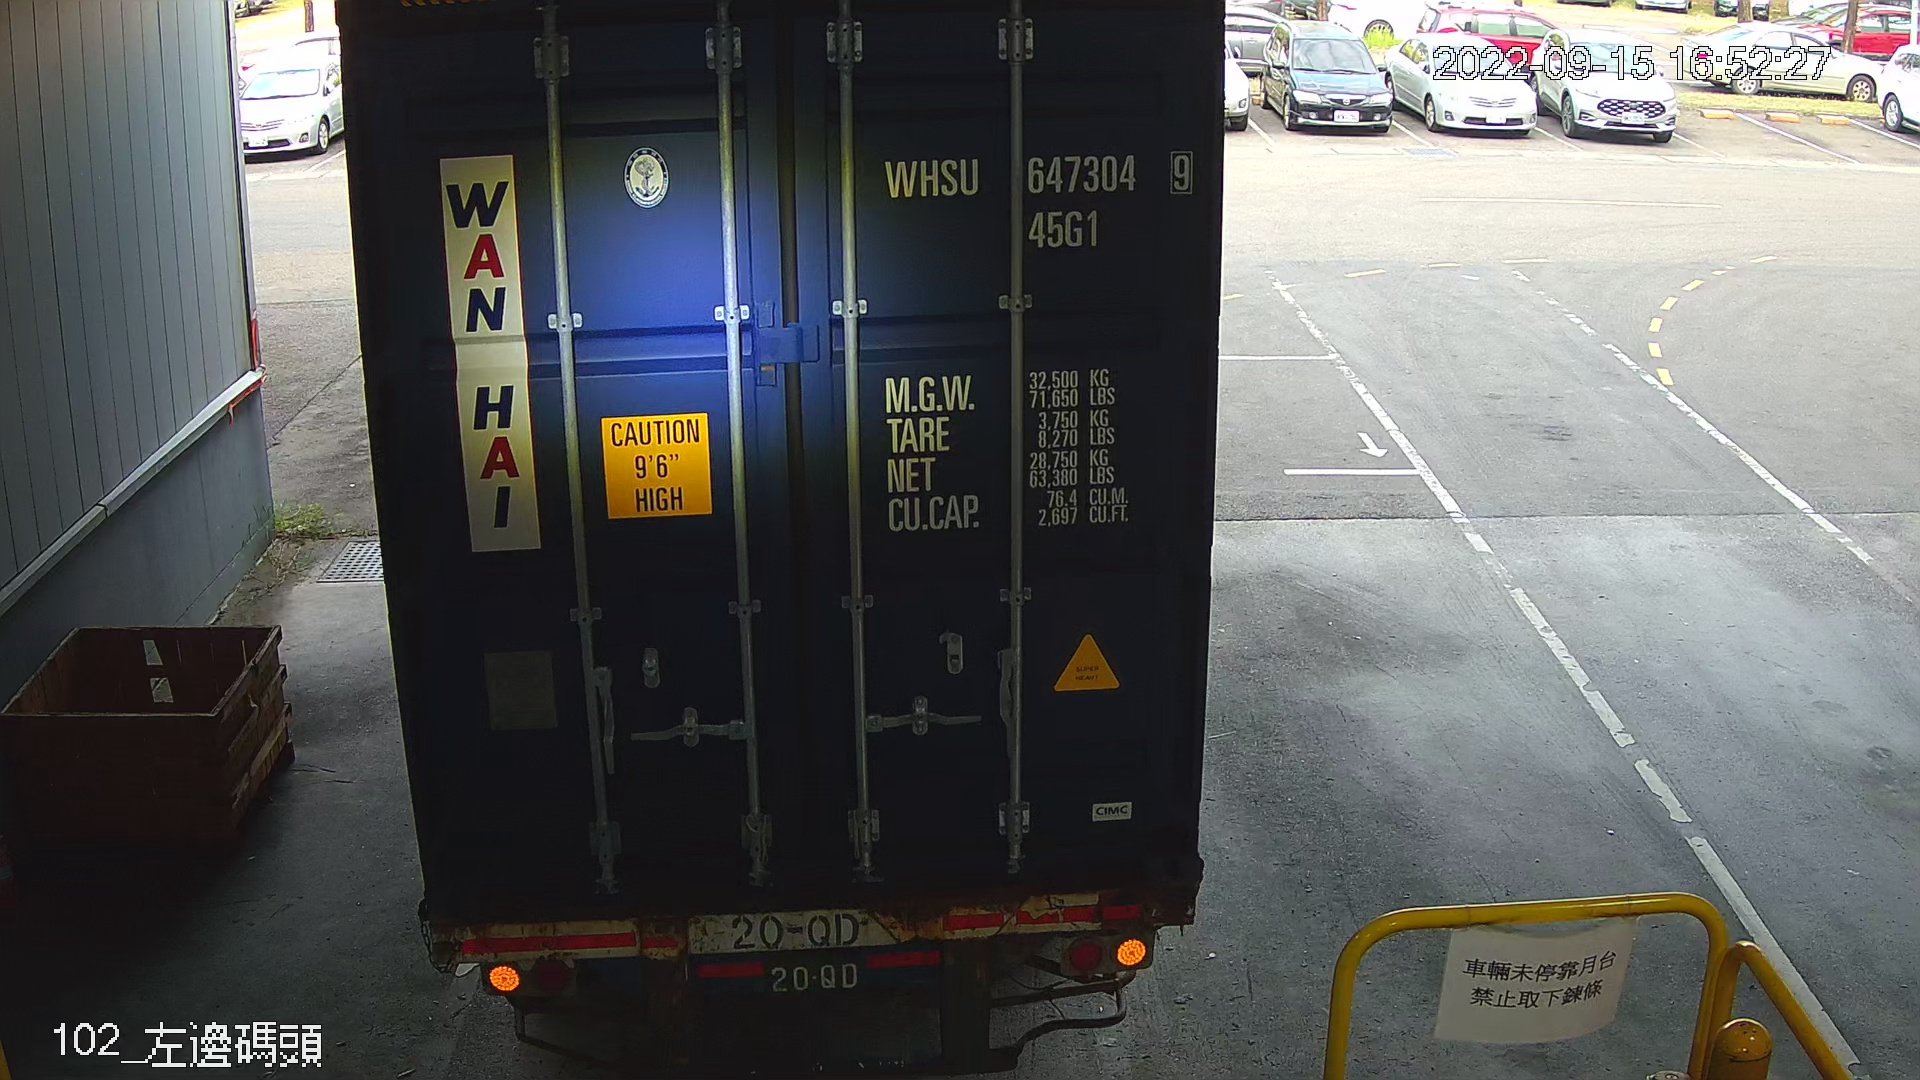container: (866, 141, 1201, 261)
